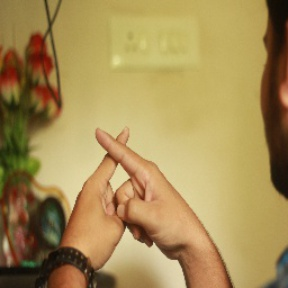X: (63, 115, 174, 210)
